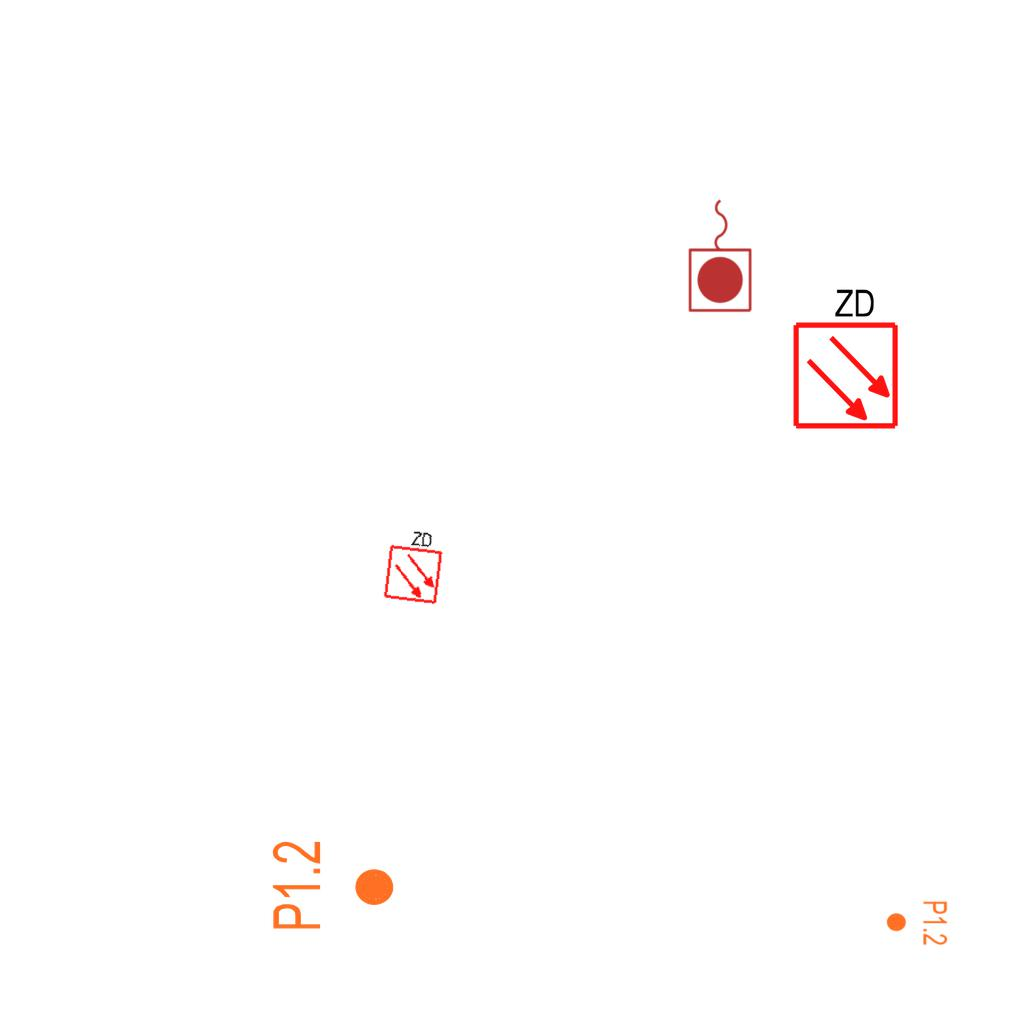Downlight_LED_Einbauleuchten_Flur: (269, 839, 397, 932), (885, 900, 949, 946)
ZD_Melder_in_Zwischendecke_mit_Revisionsoeffnung_mind_40_x_40_cm: (787, 282, 901, 431), (380, 524, 447, 606)
Zugtaster: (685, 194, 757, 316)
